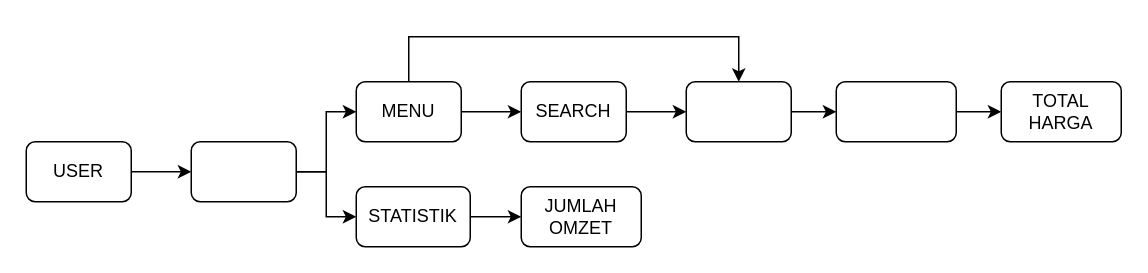
Image size: 1148x273. Some labels were removed from this diagram. Here are the shapes that lost their labels. From the top down, the centre of each, then its label:
At (x=738, y=111): "PILIH".
At (x=895, y=111): "ORDER".
At (x=243, y=171): "LOGIN".
